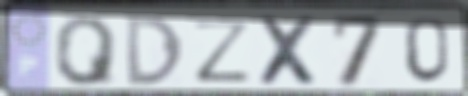0: (400, 17, 451, 87)
7: (329, 13, 386, 90)
D: (122, 14, 186, 87)
Q: (51, 14, 122, 89)
X: (255, 14, 326, 89)
Z: (189, 18, 255, 84)
